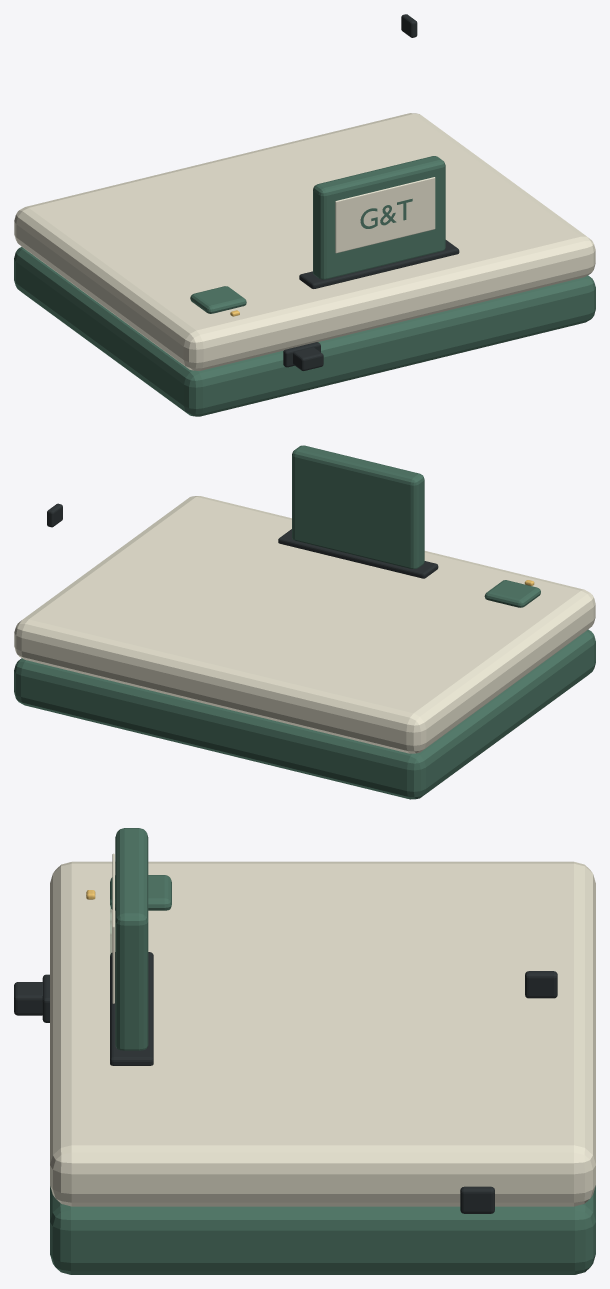
File: cartridge-console-v02.glb
The picture shows the model from 3 angles, top to bottom: view 1: azimuth 30°, elevation 25°; view 2: azimuth 150°, elevation 25°; view 3: azimuth 270°, elevation 25°; orthographic projection. The views are drawn at different scales.
Visible parts, largest first — view 1: Console upper, Console lower, Cartridge shell, Cartridge label, Cartridge socket, Power button, Controller plug; view 2: Console upper, Console lower, Cartridge shell, Cartridge socket, Power button; view 3: Console upper, Console lower, Cartridge shell, Cartridge socket, Controller plug, Power button, TV signal port, TV signal socket.
Part boxes in pixels (x1,y1,x2,y2): Console upper: [14, 113, 595, 370]; Console lower: [14, 246, 595, 416]; Cartridge shell: [313, 156, 445, 279]; Cartridge label: [335, 177, 435, 253]; Cartridge socket: [299, 240, 459, 288]; Power button: [190, 286, 246, 313]; Controller plug: [293, 347, 323, 370]; Console upper: [14, 496, 595, 753]; Console lower: [14, 629, 595, 799]; Cartridge shell: [292, 445, 424, 568]; Cartridge socket: [278, 529, 438, 578]; Power button: [484, 580, 540, 607]; Console upper: [50, 861, 595, 1206]; Console lower: [50, 1185, 595, 1274]; Cartridge shell: [115, 828, 148, 1050]; Cartridge socket: [110, 952, 153, 1065]; Controller plug: [14, 982, 42, 1015]; Power button: [110, 875, 171, 910]; TV signal port: [460, 1186, 494, 1213]; TV signal socket: [525, 971, 557, 998].
Size of the model in its own units: 0.7895 by 0.3505 by 0.6395.
